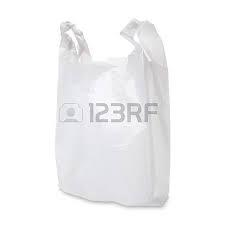Plastic: (43, 12, 178, 221)
